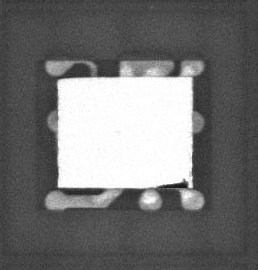DIE_BROKEN: (156, 178, 190, 188)
